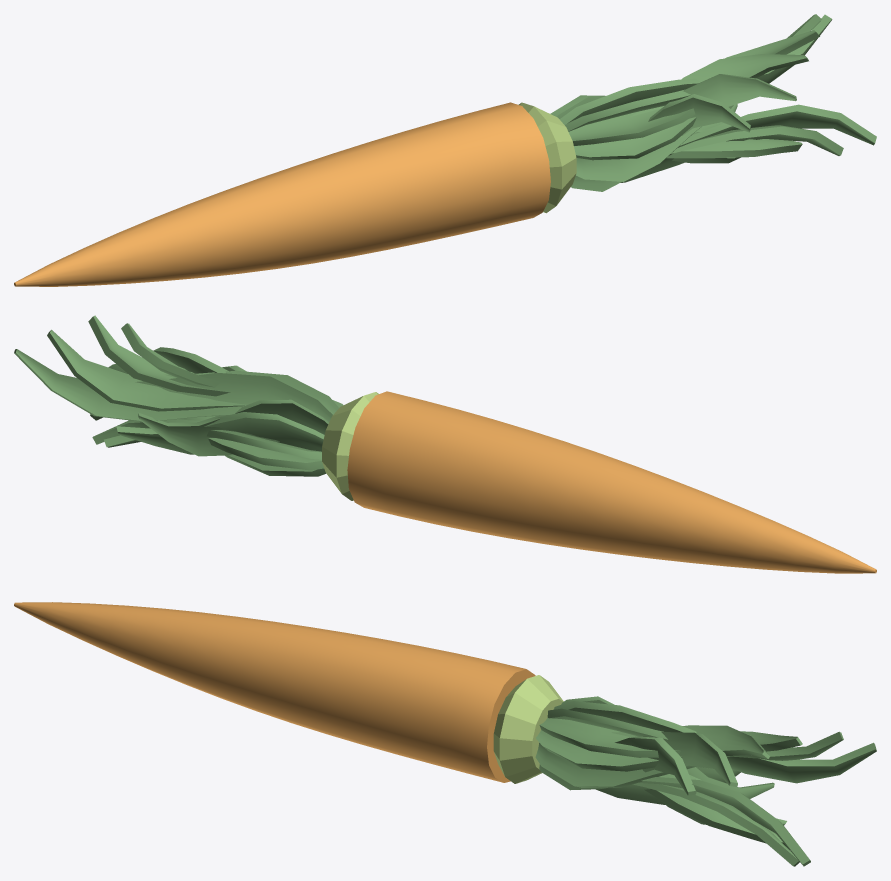
The model's file is fresh-produce-and-groceries-carrot-30612e70__24348.glb.
3 renders of one model, top to bottom at view 1: azimuth 30°, elevation 25°; view 2: azimuth 150°, elevation 25°; view 3: azimuth 330°, elevation 25°, orthographic.
Visible parts, largest first — view 1: carrot; view 2: carrot; view 3: carrot.
Boxes of the visible parts, left/top/right/bottom form: carrot: left=14, top=14, right=876, bottom=286; carrot: left=14, top=315, right=876, bottom=573; carrot: left=14, top=602, right=876, bottom=866.
Size of the model in its own units: 0.2832 by 0.0392 by 0.0363.
